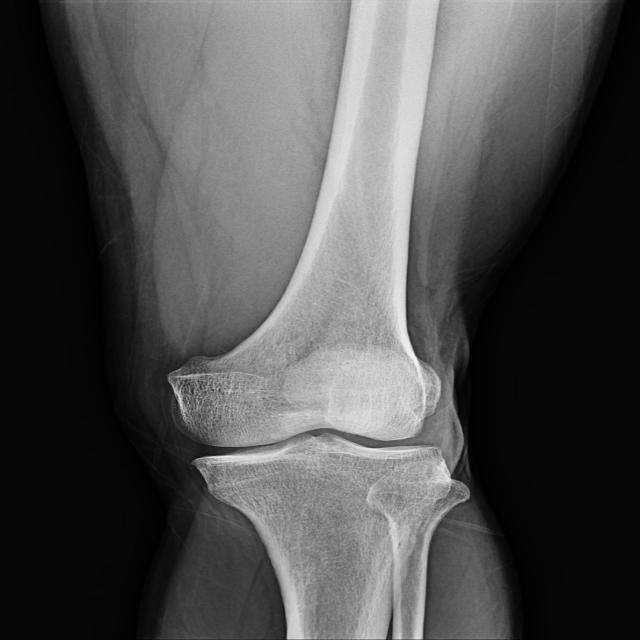osteo: (159, 352, 457, 478)
